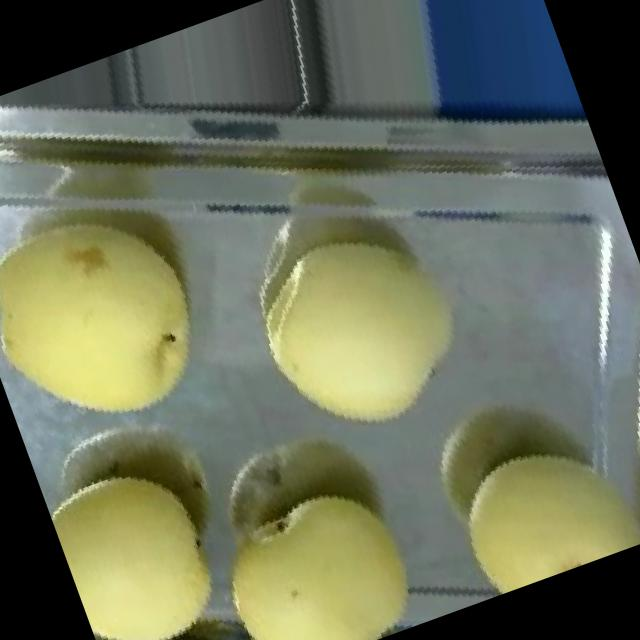Fruit: (204, 171, 526, 490), (0, 146, 264, 479), (171, 439, 454, 640), (36, 416, 274, 640), (415, 389, 640, 607)
